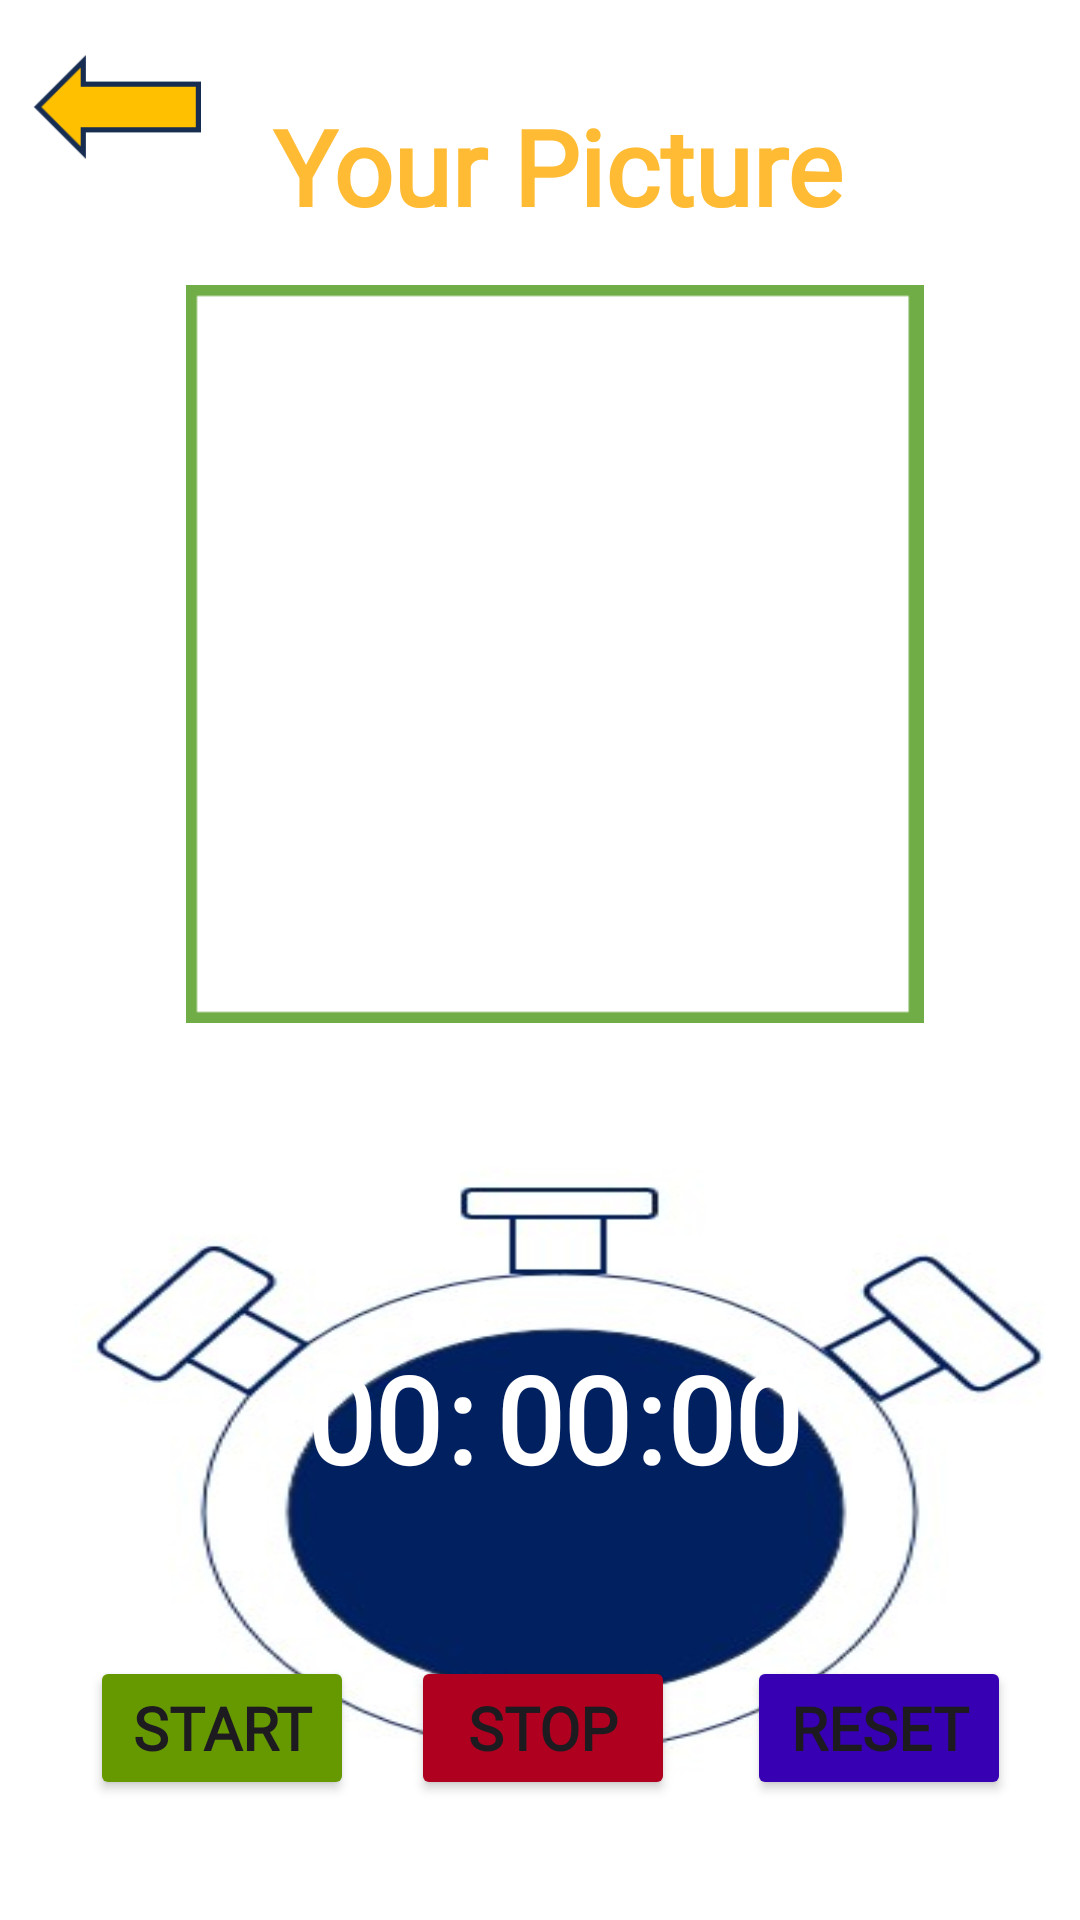

Named icons in this screenshot (1080px×1920px) and their bounding boxes, (x1, y1, x2, y2):
backpage: (34, 55, 201, 159)
